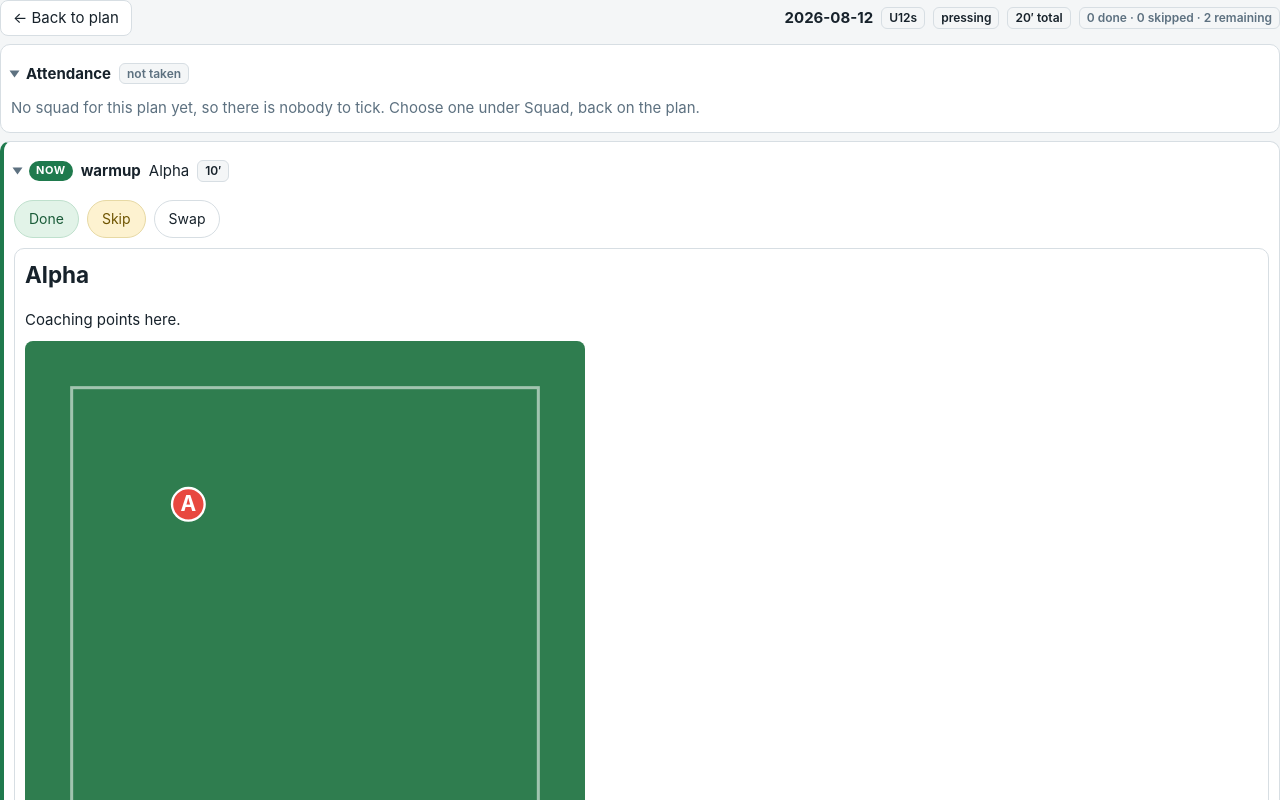
Scenario: SessionRun swapping a drill › marking a block Done while its picker is open leaves it showing the drill, not the picker
Click the button "Swap": (187, 219) [154,200,220,238]
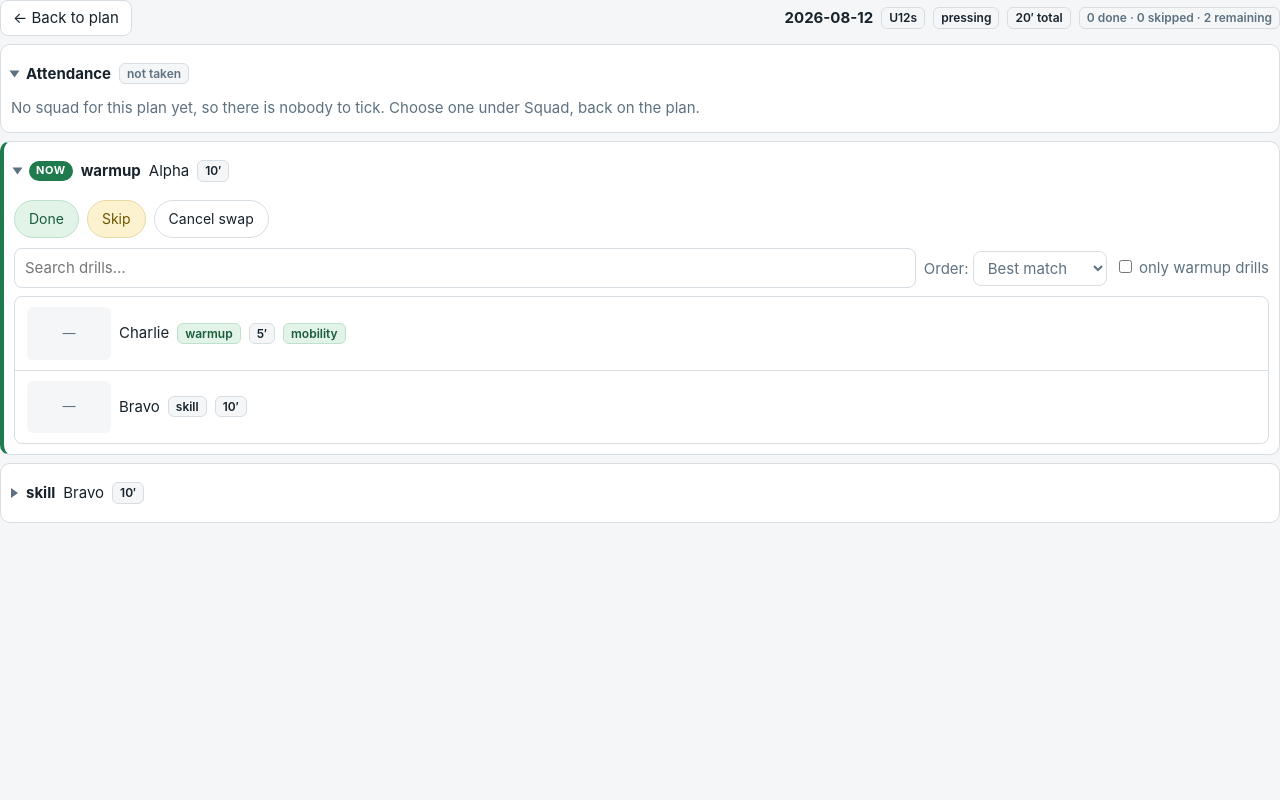
Click the button "Done": (46, 219) [14,200,79,238]
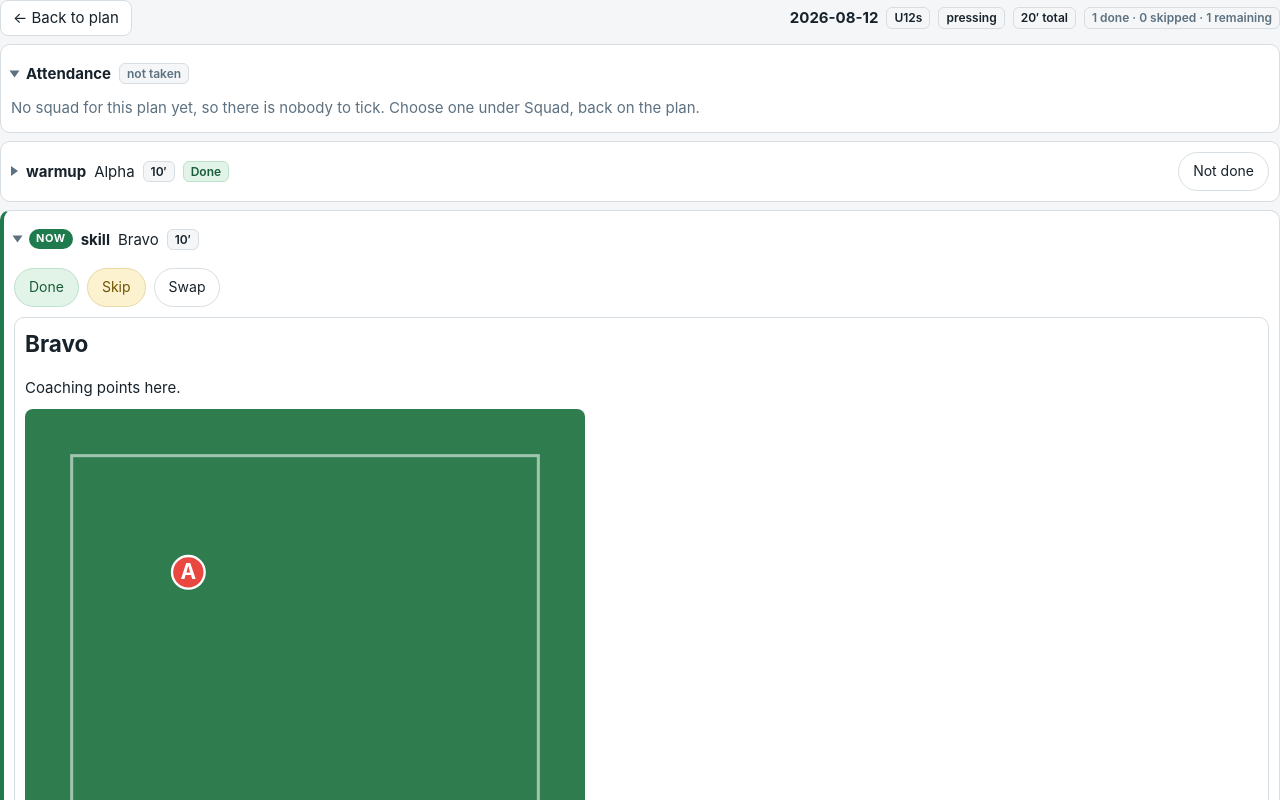
Click the button with class "run-block-summary" showing "warmup Alpha 10′ Done": (56, 171) [11,152,1170,190]
(page scrolled)
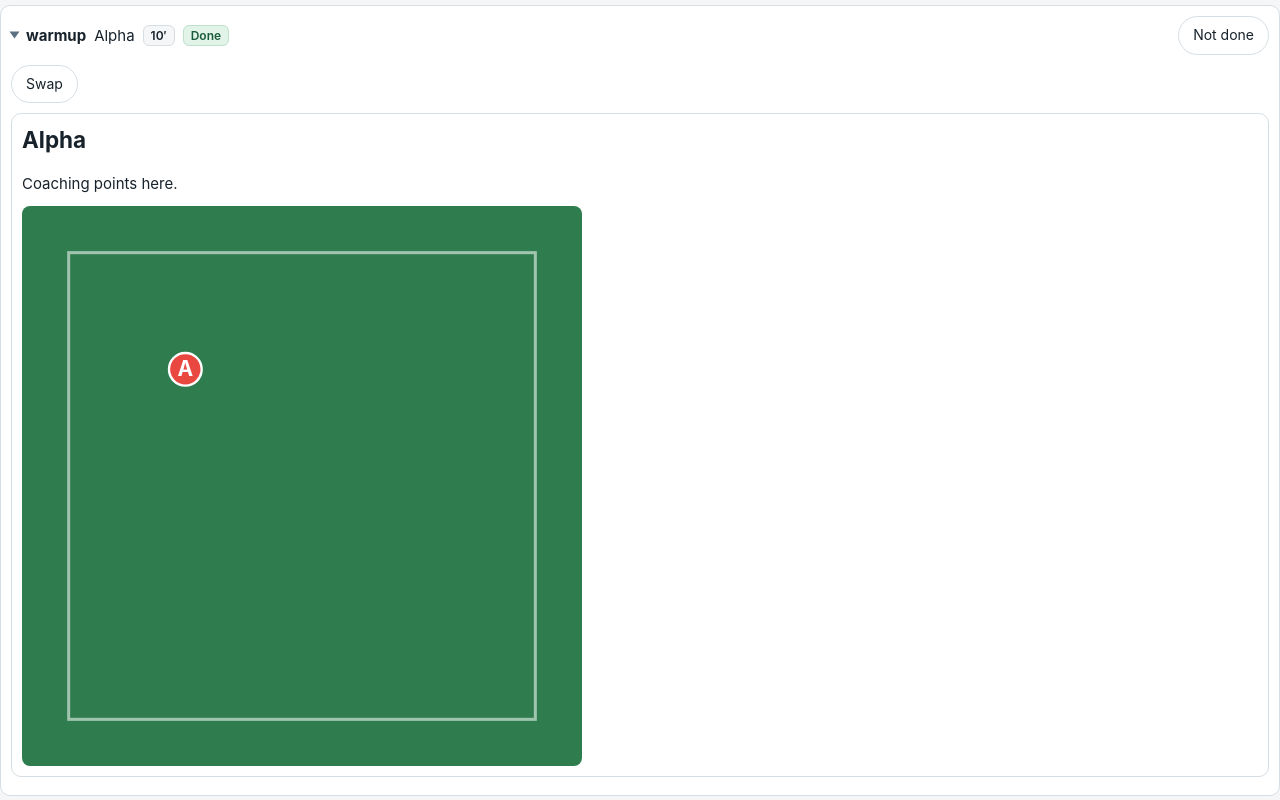
Expected: the element with class "run-block" shows "Coaching points here", [22,174,178,194]
